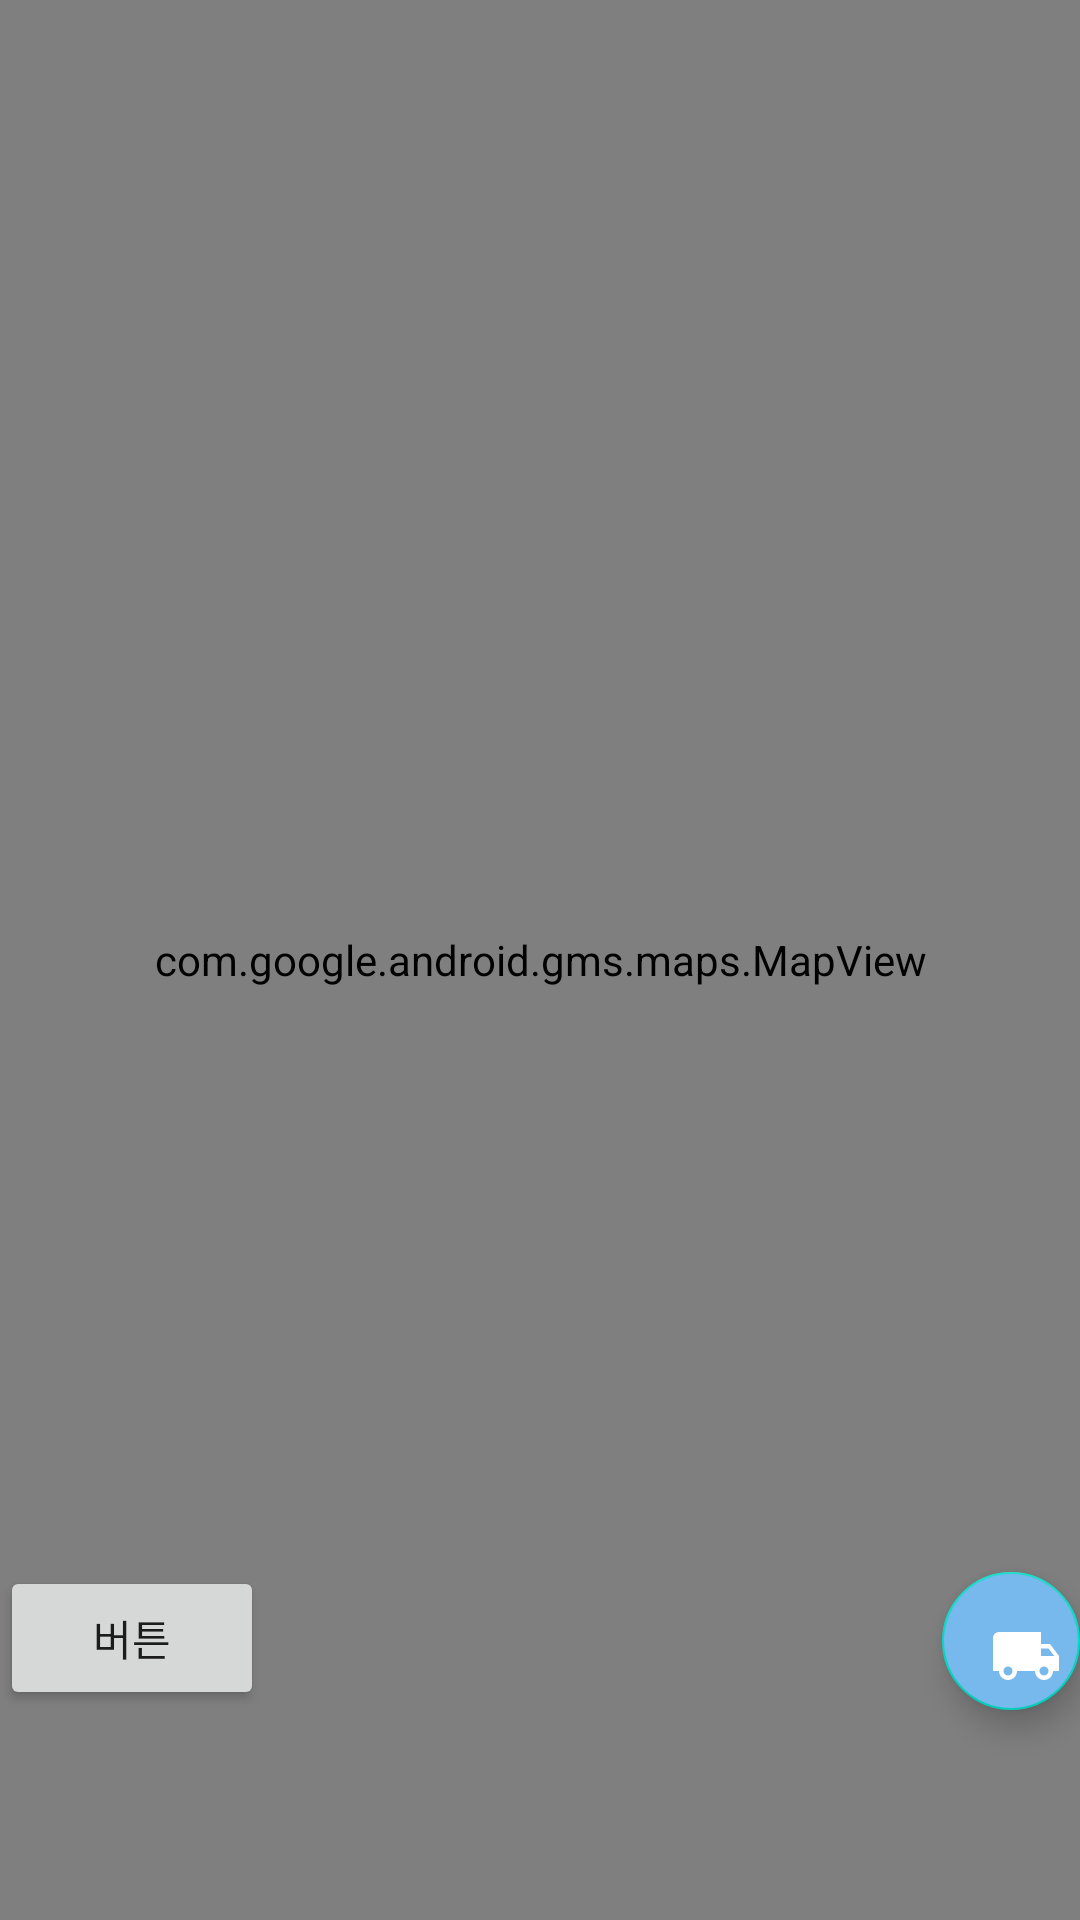

Icons on this 1080×1920 Android screen, each with the point to tap as (x,y):
local shipping: (1011,1641)
